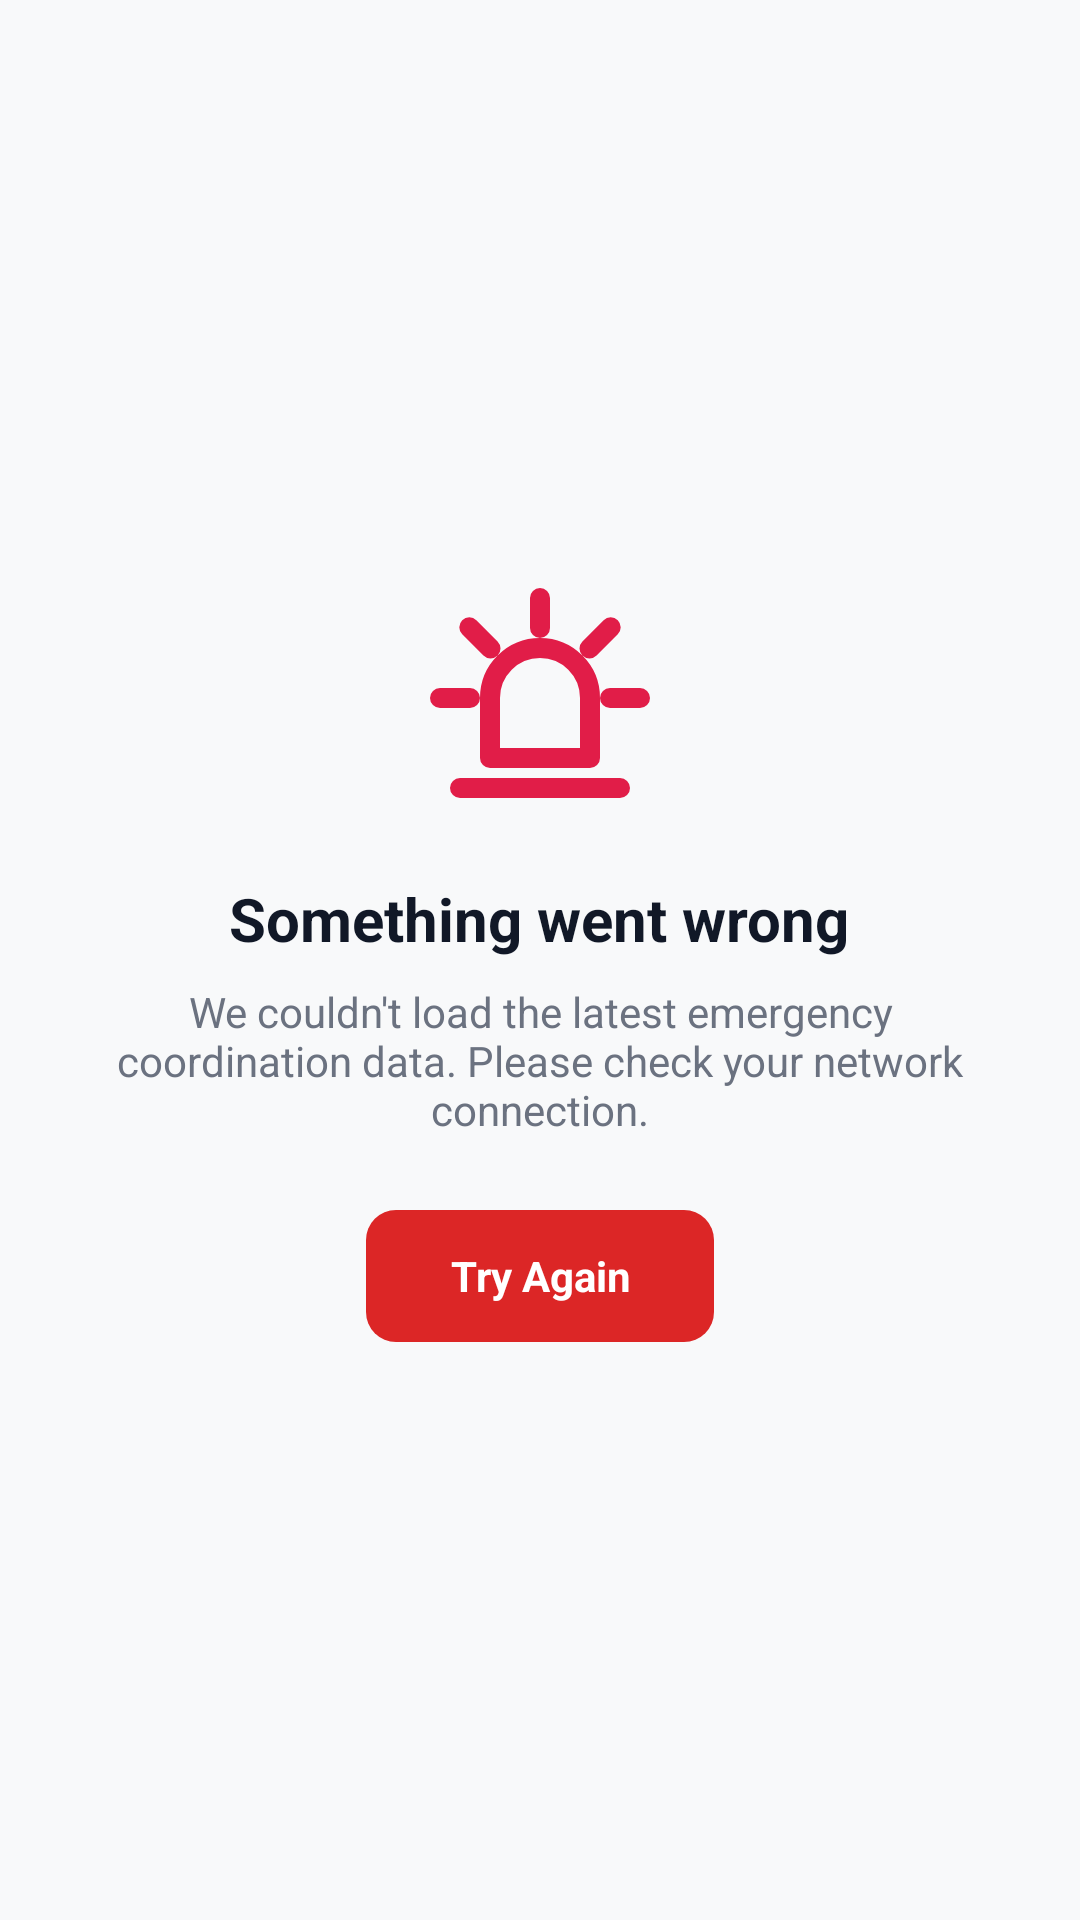

Locate icon controls on the screen. Image size 1080×1920, boxes as (x1, y1, x2, y2).
Error Icon: (430, 588, 650, 798)
